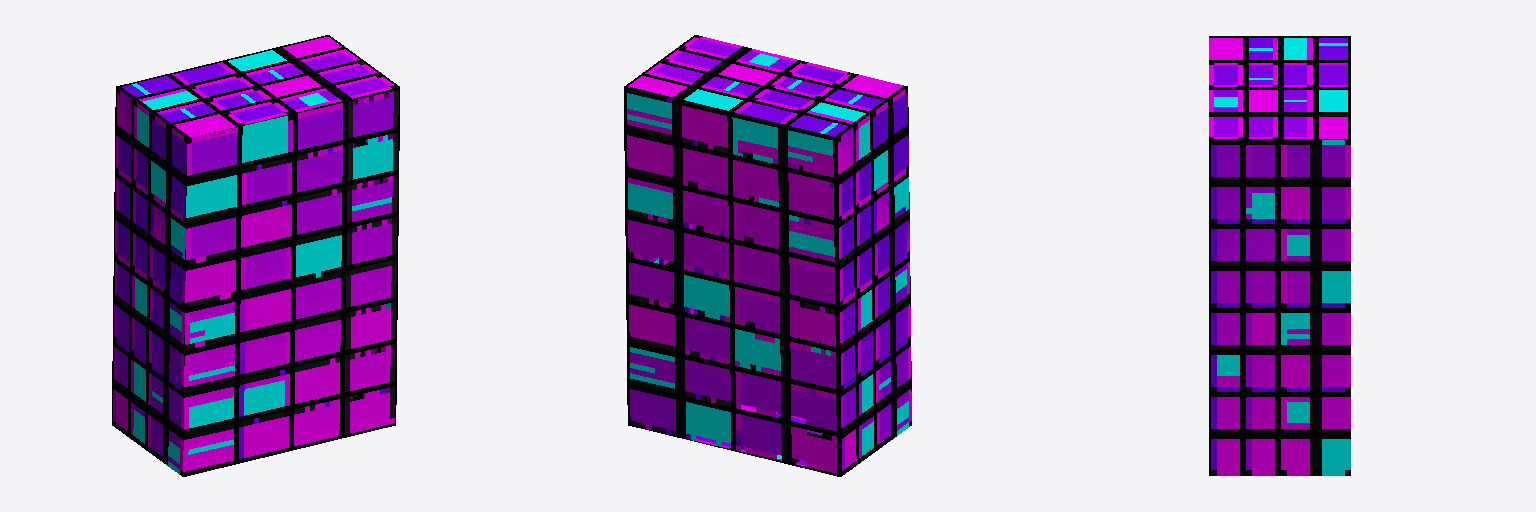
The picture shows the model from 3 angles: view 1: azimuth 30°, elevation 25°; view 2: azimuth 150°, elevation 25°; view 3: azimuth 270°, elevation 25°; orthographic projection.
Parts seen in each view (by area): view 1: 立方体.014; view 2: 立方体.014; view 3: 立方体.014.
Boxes of the visible parts, box(x1,y1,x2,y2) form: 立方体.014: box(112, 35, 399, 476); 立方体.014: box(624, 35, 911, 476); 立方体.014: box(1209, 36, 1350, 475).
Bounding box in the file's own units: 288 × 428 × 164.
1 materials, 1 textured.